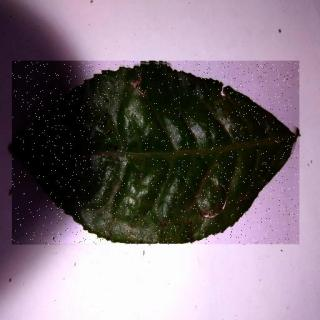Bird Eye Spot: (13, 62, 300, 247)
